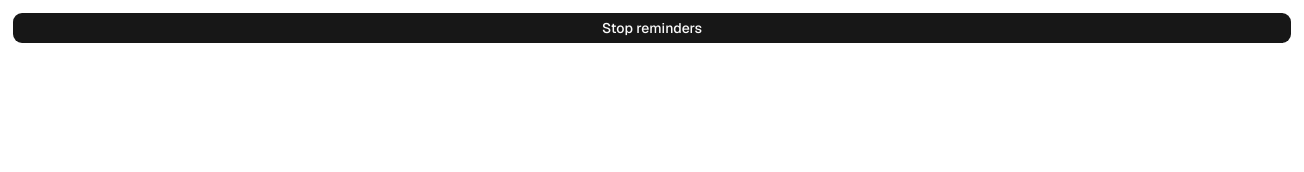
UnsubscribeForm (FR-AD-5) › stops reminders on a click, not on opening the link
The image size is (1304, 172).
Click the button "Stop reminders" at [652, 28], box [12,12,1292,44]
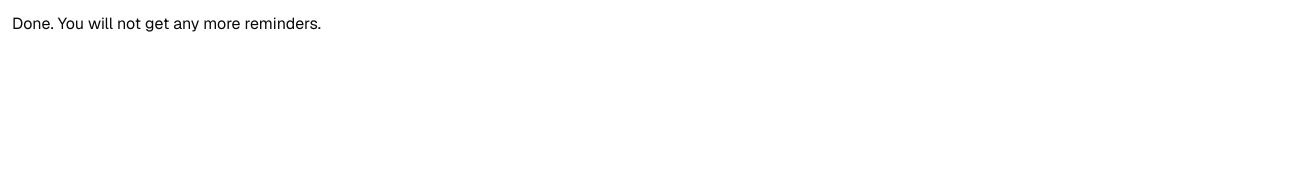
expect the message shows "You will not get any more reminders.": met, box [12,13,321,34]
